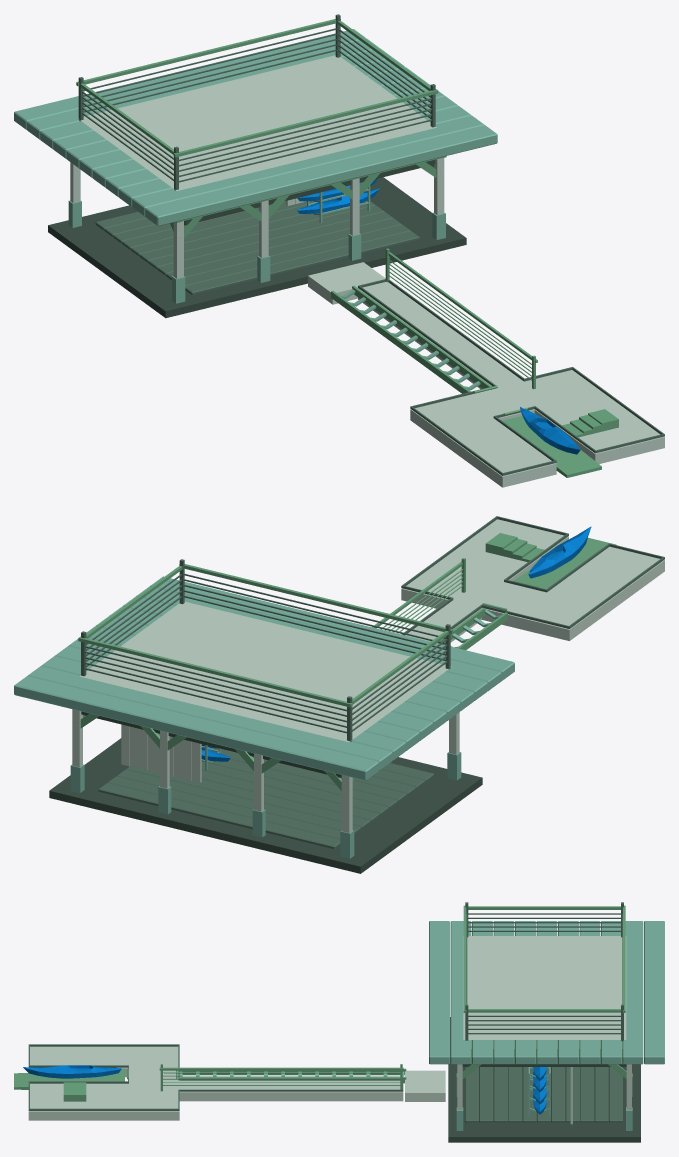
Rendered from boathouse2.glb.
The picture shows the model from 3 angles, top to bottom: view 1: azimuth 30°, elevation 25°; view 2: azimuth 150°, elevation 25°; view 3: azimuth 270°, elevation 25°; orthographic projection. The views are drawn at different scales.
Parts seen in each view (by area): view 1: building, pone, ptwo; view 2: building, ptwo; view 3: building, ptwo, pone.
Part boxes in pixels (x1,y1,x2,y2): building: (14, 14, 664, 487); pone: (297, 178, 379, 222); ptwo: (520, 407, 580, 454); building: (14, 516, 664, 873); ptwo: (528, 526, 591, 578); building: (14, 902, 664, 1142); ptwo: (23, 1065, 121, 1078); pone: (528, 1067, 550, 1115).
Bounding box in the file's own units: 7.27 × 3.23 × 14.7.
